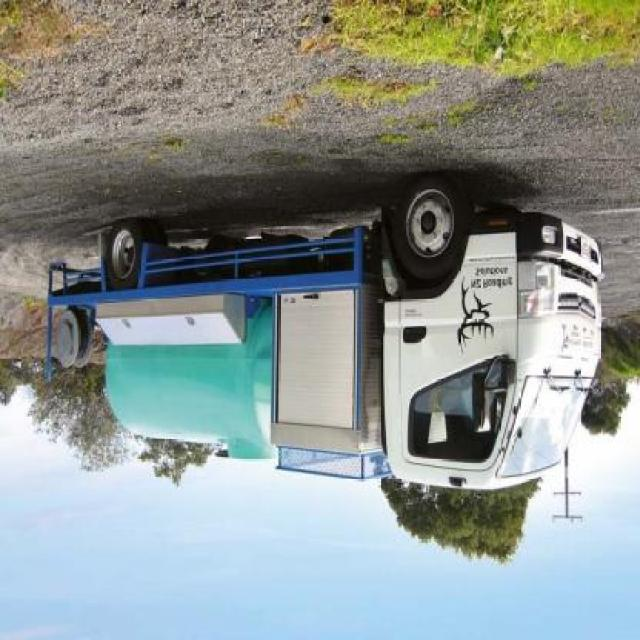truck: (44, 179, 604, 495)
